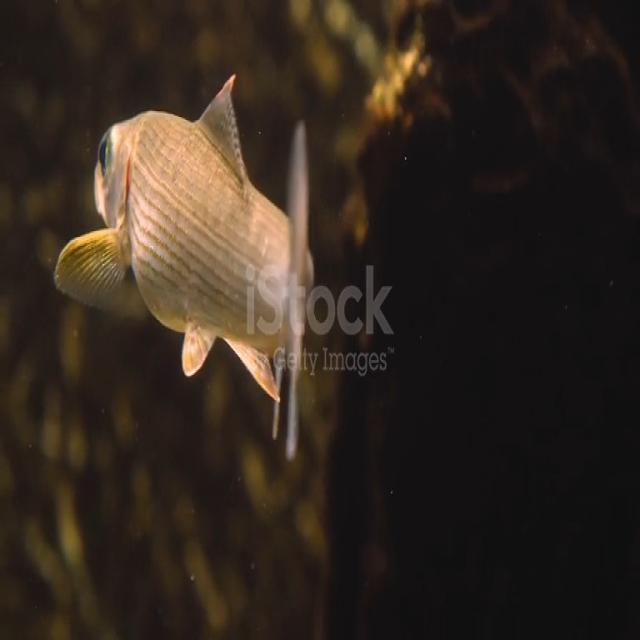fish: (52, 76, 306, 470)
